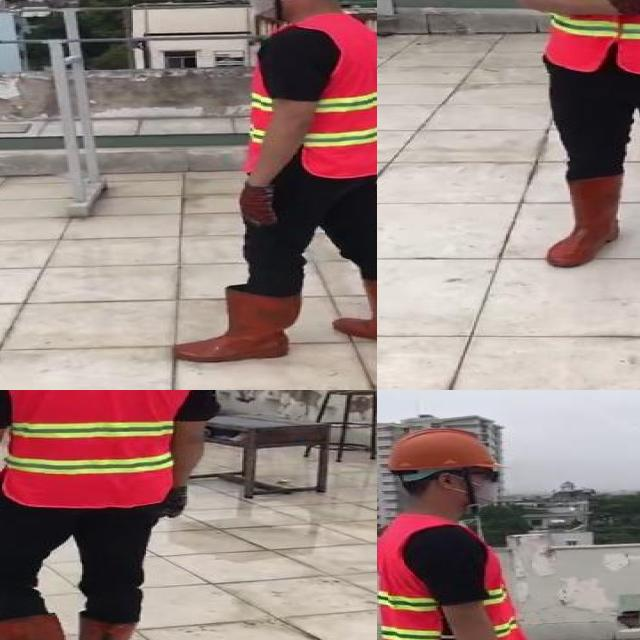boots: (170, 288, 304, 362), (545, 175, 623, 268), (330, 281, 377, 351), (80, 615, 142, 640)
face_mask: (452, 468, 507, 508), (237, 0, 291, 17)
hand_glove: (238, 183, 282, 228), (160, 487, 196, 518)
head_helmet: (381, 427, 503, 472)
person: (166, 0, 377, 370), (0, 390, 212, 640), (377, 416, 561, 640), (510, 0, 640, 315)
vest: (241, 16, 377, 177), (0, 390, 188, 506), (377, 509, 532, 640), (538, 0, 640, 77)
